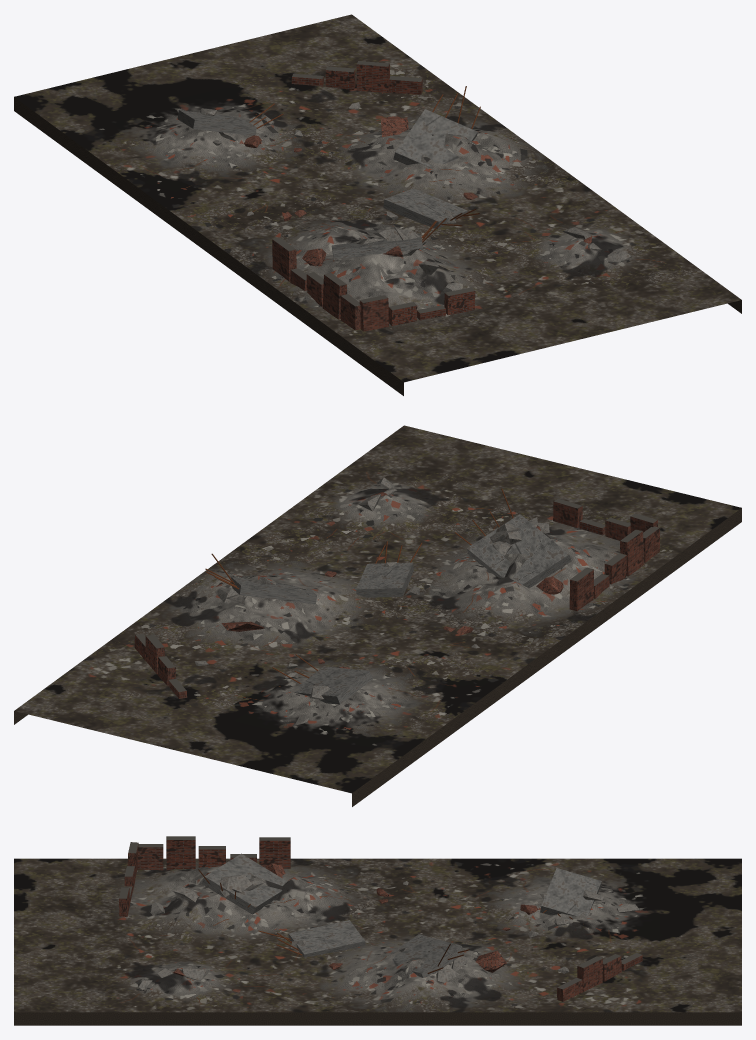
File: Ground_Rubble.fbx
3 renders of one model, top to bottom at view 1: azimuth 30°, elevation 25°; view 2: azimuth 150°, elevation 25°; view 3: azimuth 270°, elevation 25°, orthographic. The views are drawn at different scales.
Visible parts, largest first — view 1: Ground_Rubble; view 2: Ground_Rubble; view 3: Ground_Rubble.
Part boxes in pixels (x1=…): Ground_Rubble: x1=14, y1=14, x2=741, y2=395; Ground_Rubble: x1=14, y1=425, x2=741, y2=806; Ground_Rubble: x1=14, y1=836, x2=741, y2=1025.
Size of the model in its own units: 1000 by 203 by 2000.
Materials: 1 (1 with a texture image).
